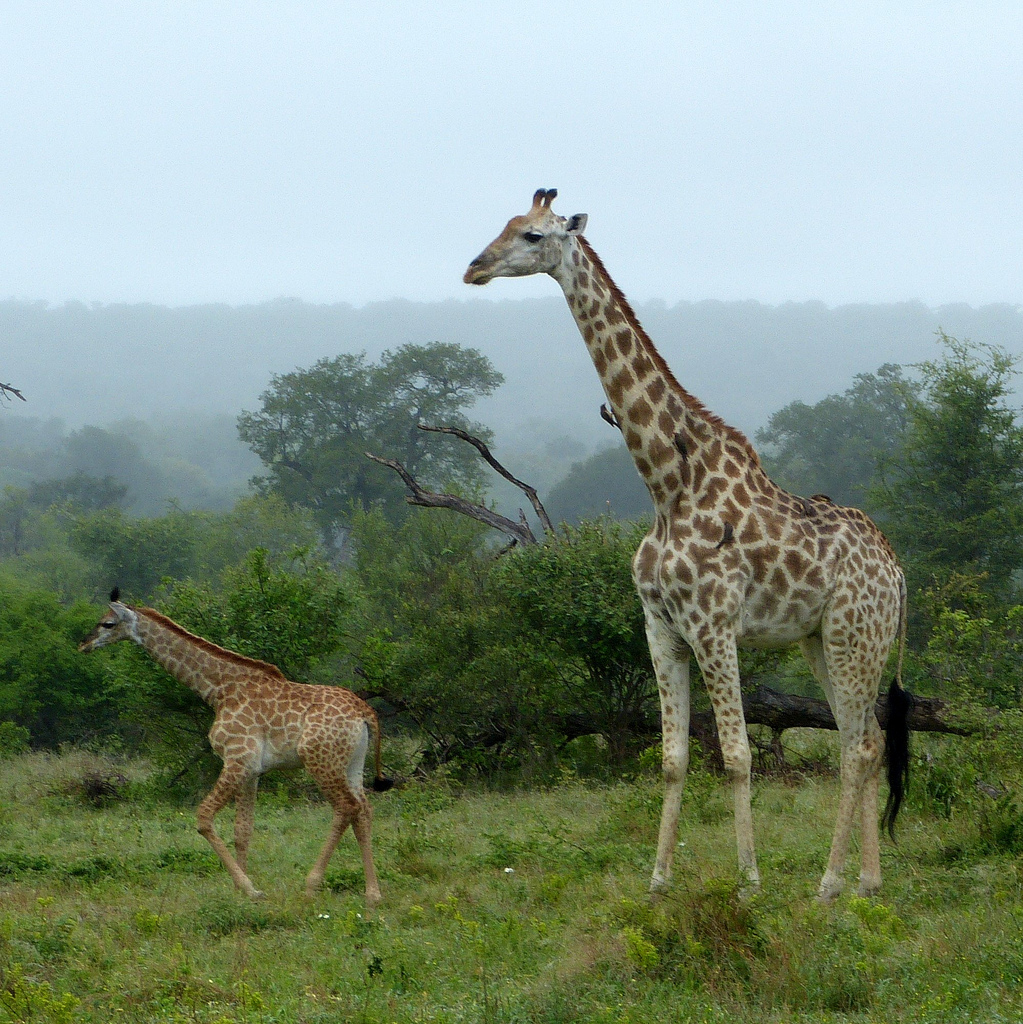giraffe: (449, 171, 955, 910), (89, 595, 416, 912)
